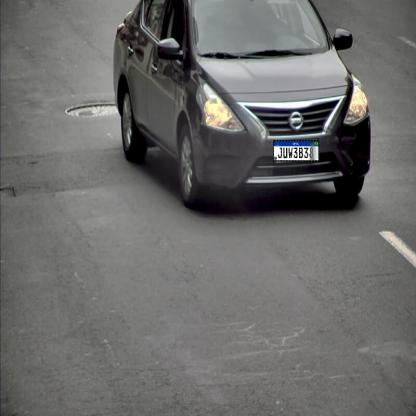PlacaM: (273, 140, 319, 162)
